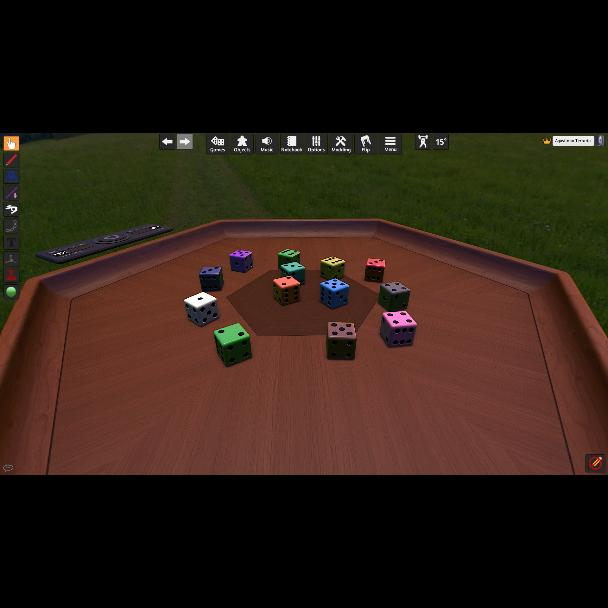d6: (213, 324, 251, 366), (380, 312, 418, 348), (184, 291, 220, 327), (326, 322, 356, 360), (378, 282, 410, 312), (272, 274, 300, 306), (319, 278, 343, 308), (198, 267, 224, 293), (280, 262, 304, 286), (364, 258, 386, 284), (228, 250, 252, 272), (319, 257, 341, 281), (278, 250, 300, 270)
